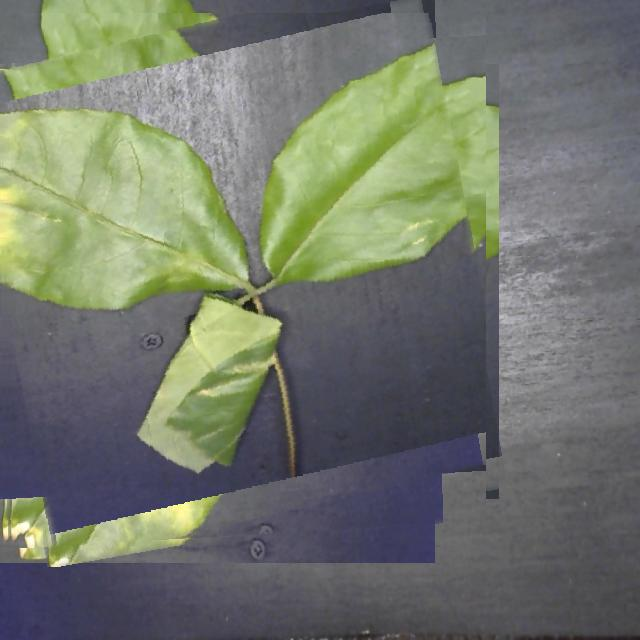biodegradable: (0, 13, 486, 549)
